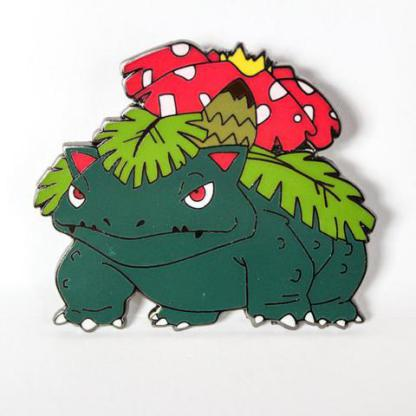Venusaur: (17, 39, 386, 359)
